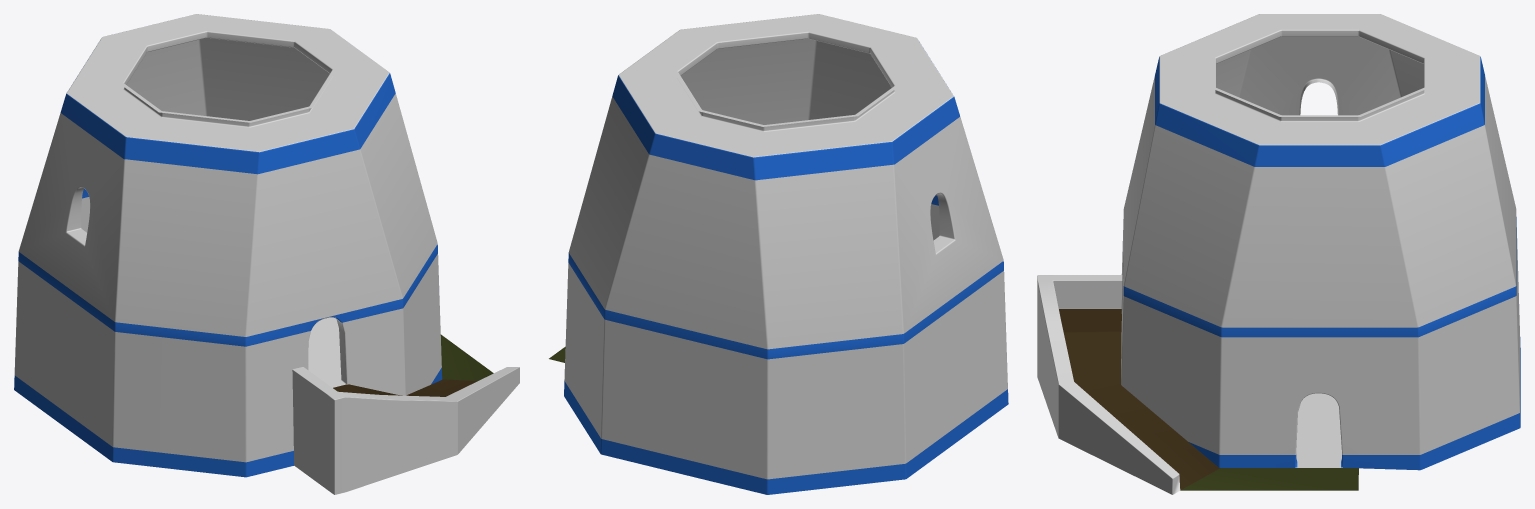
The model's file is SM_Tower_Base_Basic 1.fbx.
3 renders of one model, left to right at view 1: azimuth 30°, elevation 25°; view 2: azimuth 150°, elevation 25°; view 3: azimuth 270°, elevation 25°, orthographic. The views are drawn at different scales.
Visible parts, largest first — view 1: SM_Tower_Base_Basic; view 2: SM_Tower_Base_Basic; view 3: SM_Tower_Base_Basic.
Part boxes in pixels (left/top/right/bottom): SM_Tower_Base_Basic: left=14, top=14, right=519, bottom=494; SM_Tower_Base_Basic: left=549, top=14, right=1008, bottom=494; SM_Tower_Base_Basic: left=1037, top=14, right=1520, bottom=494.
Bounding box in the file's own units: 1287 × 992 × 1375.
